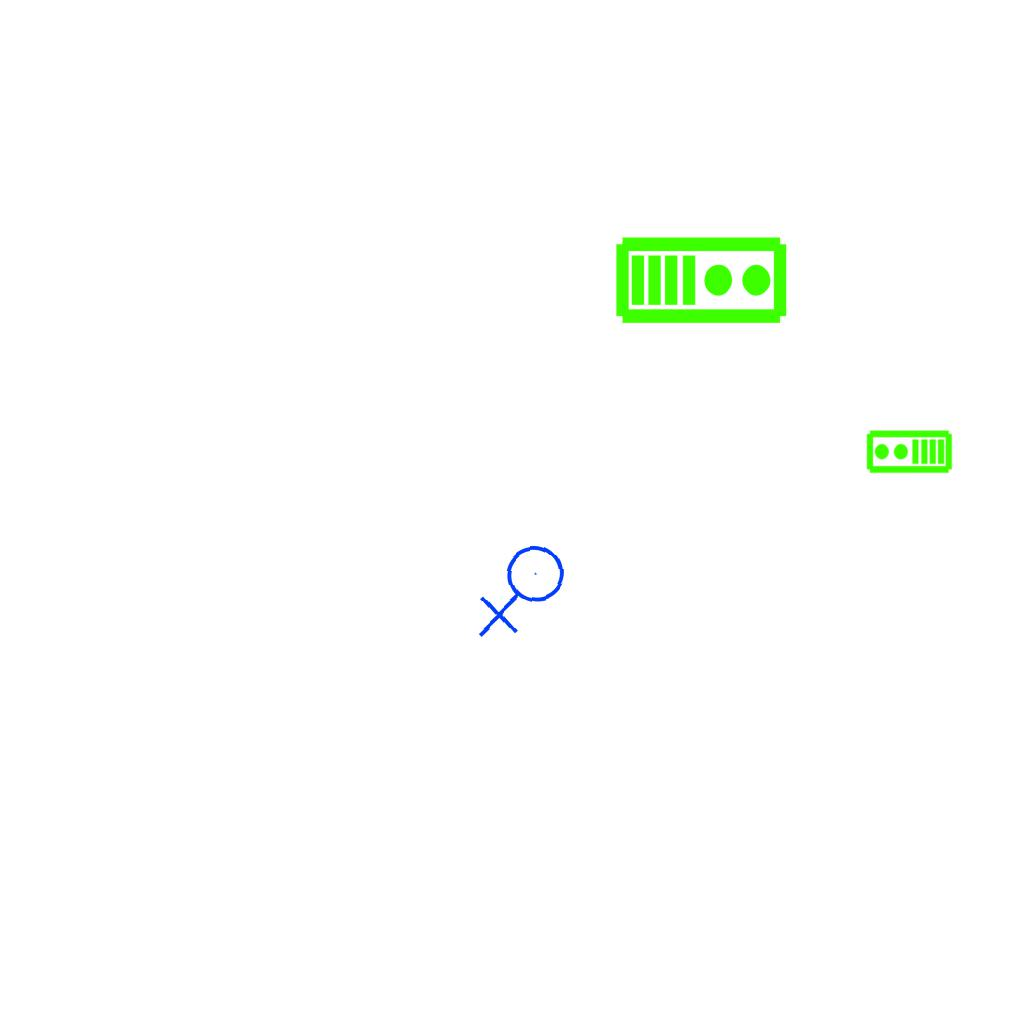Elektroanschluss_allgemein_230V_Geraeteanschlussdose_230V: (471, 541, 578, 643)
Gegensprechanlage_mit_Video: (614, 231, 790, 326), (865, 429, 953, 476)
